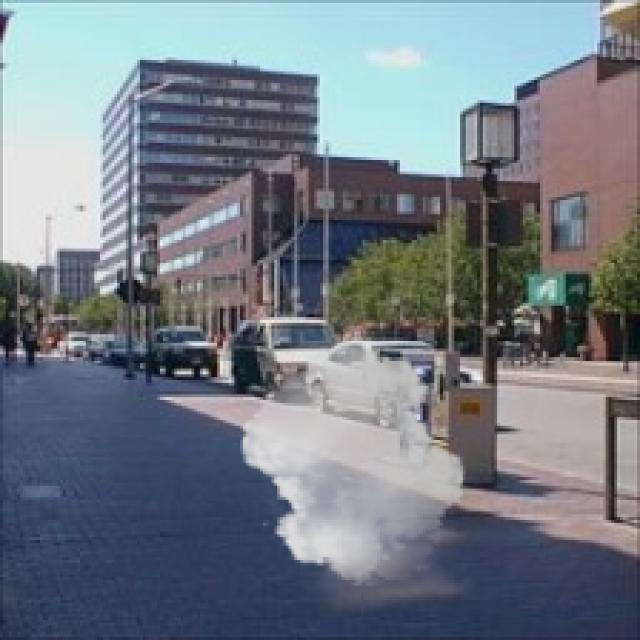smoke: (232, 334, 474, 586)
